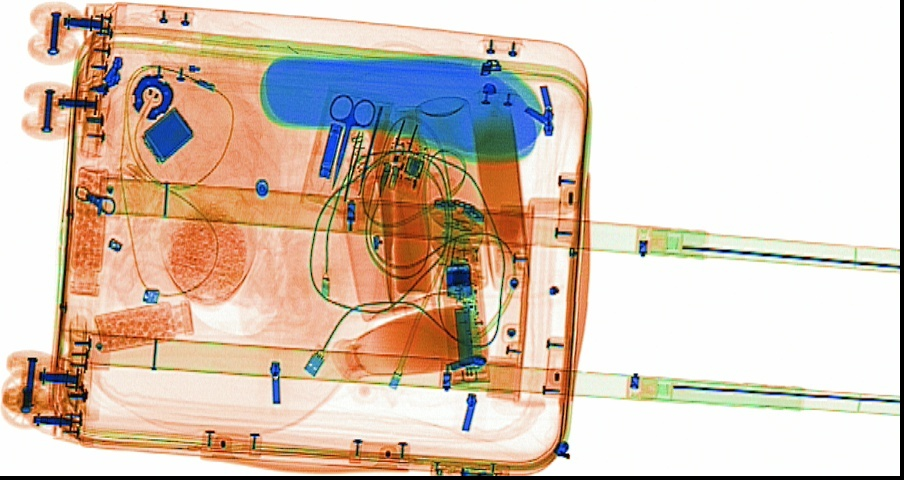pressure: (415, 93, 486, 298)
scissors: (327, 93, 378, 192)
